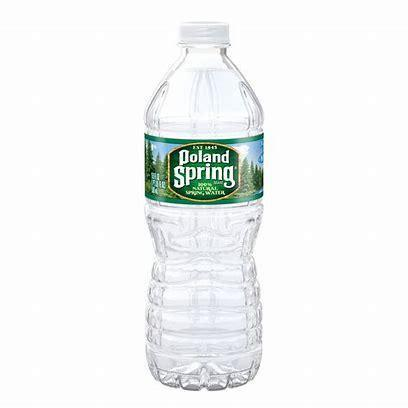plastic_bottle: (139, 16, 269, 394)
